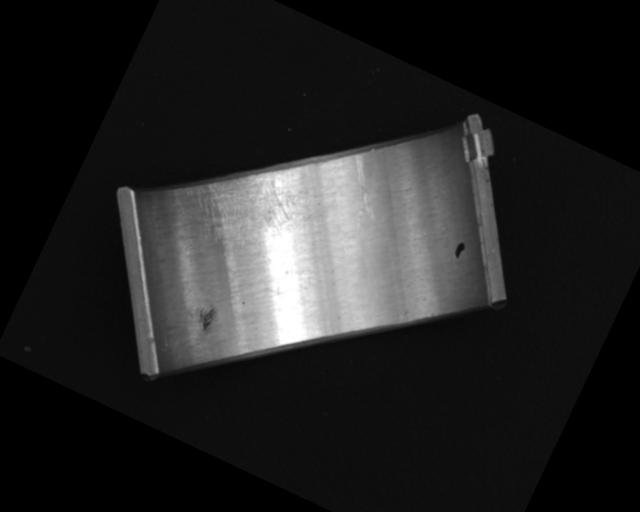blot: (450, 239, 467, 260)
bruise: (192, 299, 221, 333)
nick: (325, 152, 397, 235)
scratch: (162, 129, 325, 275)
